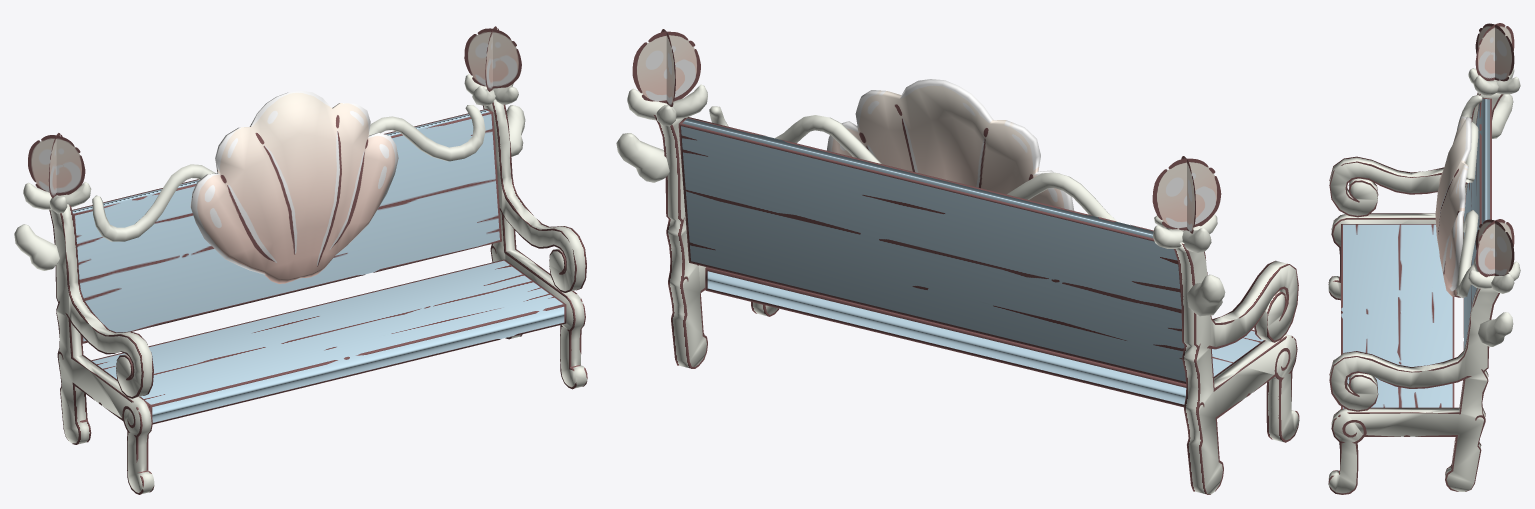
Rendered from Mesh_Home_B_BH_43_SM.fbx.
The picture shows the model from 3 angles, left to right: view 1: azimuth 30°, elevation 25°; view 2: azimuth 150°, elevation 25°; view 3: azimuth 270°, elevation 25°; orthographic projection. The views are drawn at different scales.
Parts seen in each view (by area): view 1: Mesh_Home_B_BH_43, Mesh_Home_B_BH_43_P; view 2: Mesh_Home_B_BH_43, Mesh_Home_B_BH_43_P; view 3: Mesh_Home_B_BH_43, Mesh_Home_B_BH_43_P.
Part boxes in pixels (left/top/right/bottom): Mesh_Home_B_BH_43: left=14, top=74, right=587, bottom=494; Mesh_Home_B_BH_43_P: left=28, top=26, right=521, bottom=198; Mesh_Home_B_BH_43: left=616, top=79, right=1299, bottom=494; Mesh_Home_B_BH_43_P: left=632, top=29, right=1221, bottom=233; Mesh_Home_B_BH_43: left=1328, top=66, right=1520, bottom=494; Mesh_Home_B_BH_43_P: left=1475, top=23, right=1514, bottom=277.
Size of the model in its own units: 328 by 184 by 117.
